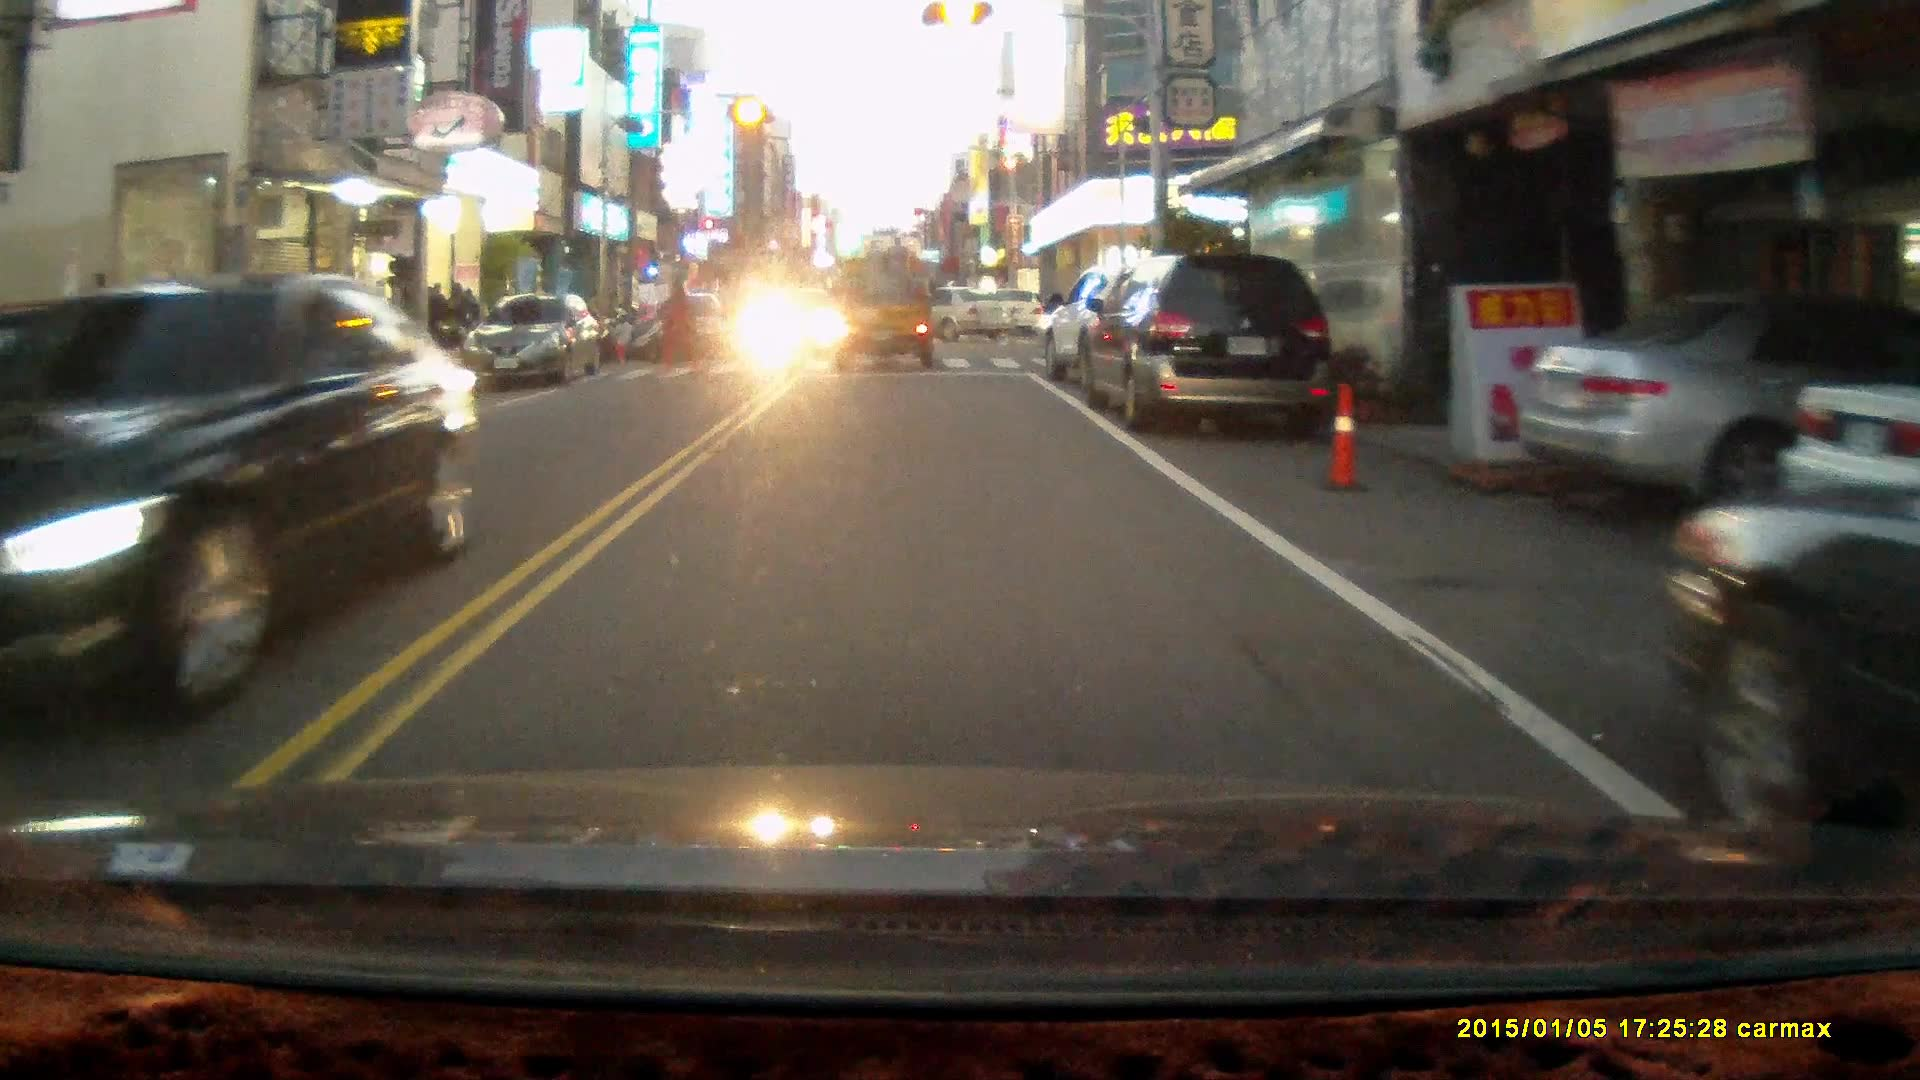pedestrian: (659, 275, 695, 376), (609, 314, 634, 366)
vehicle: (7, 274, 489, 731), (1659, 437, 1920, 854), (1515, 292, 1920, 525), (1078, 249, 1335, 438), (1042, 258, 1218, 406), (1780, 382, 1920, 554), (828, 236, 940, 377), (484, 297, 601, 391), (863, 286, 1011, 344), (646, 298, 738, 362)
